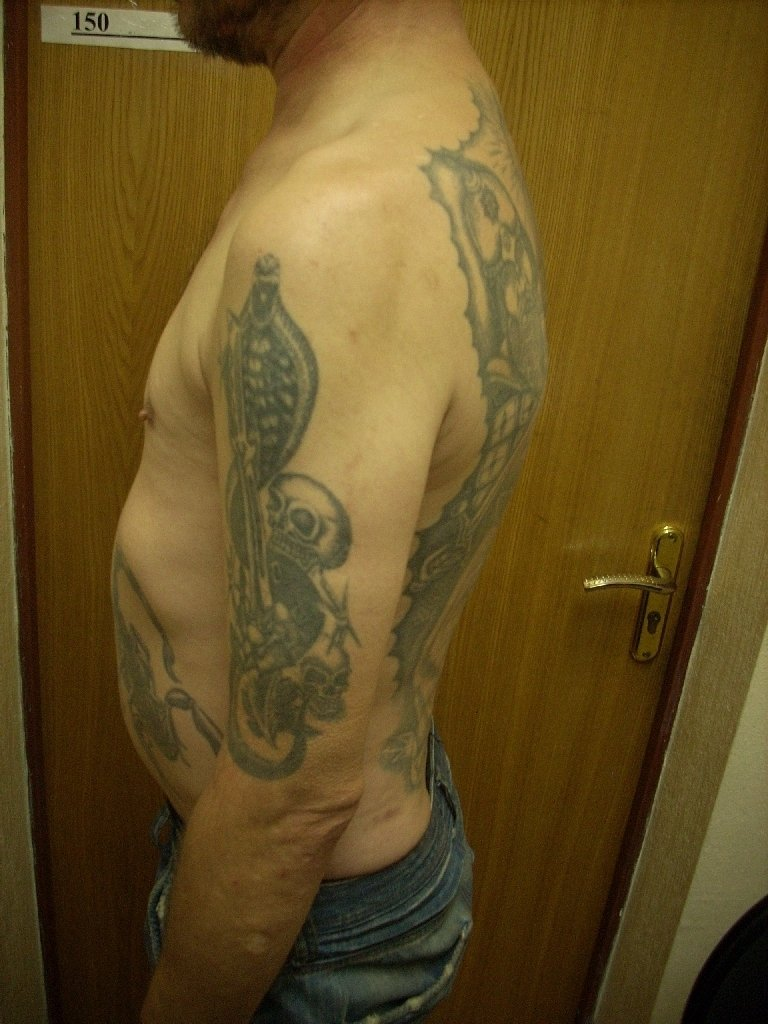tatu7_zmeya: (208, 228, 362, 784)
